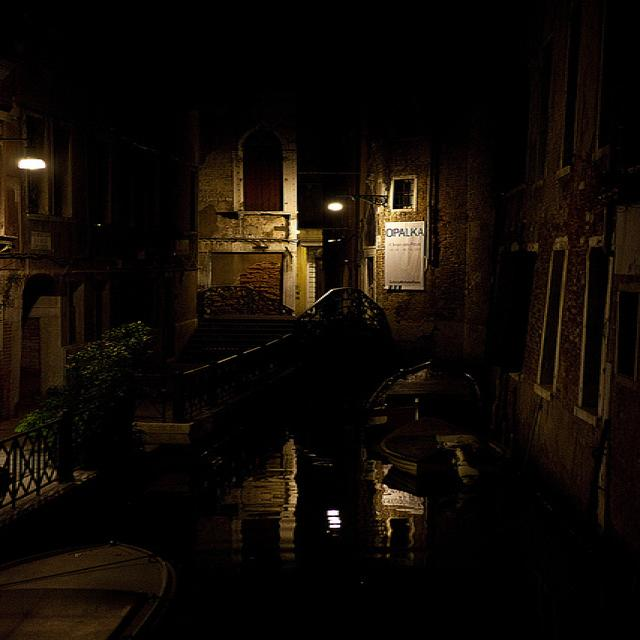Boat: (0, 534, 196, 640), (379, 410, 519, 494)
